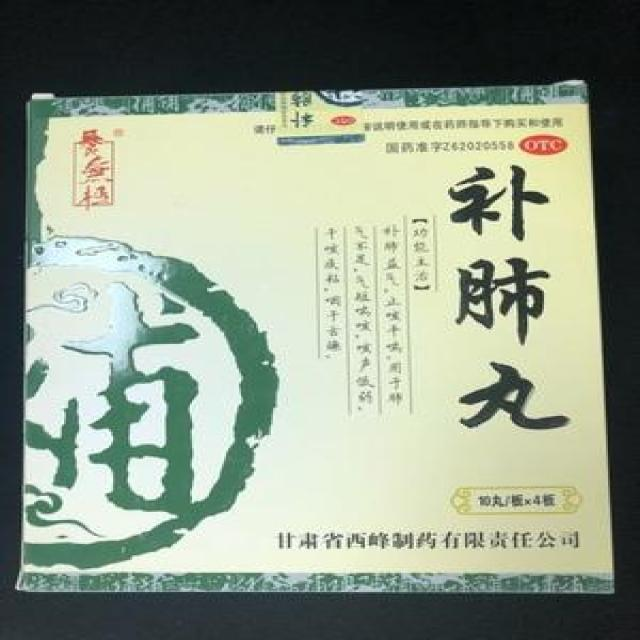-Recyclables - paper box-: (17, 86, 620, 596)
